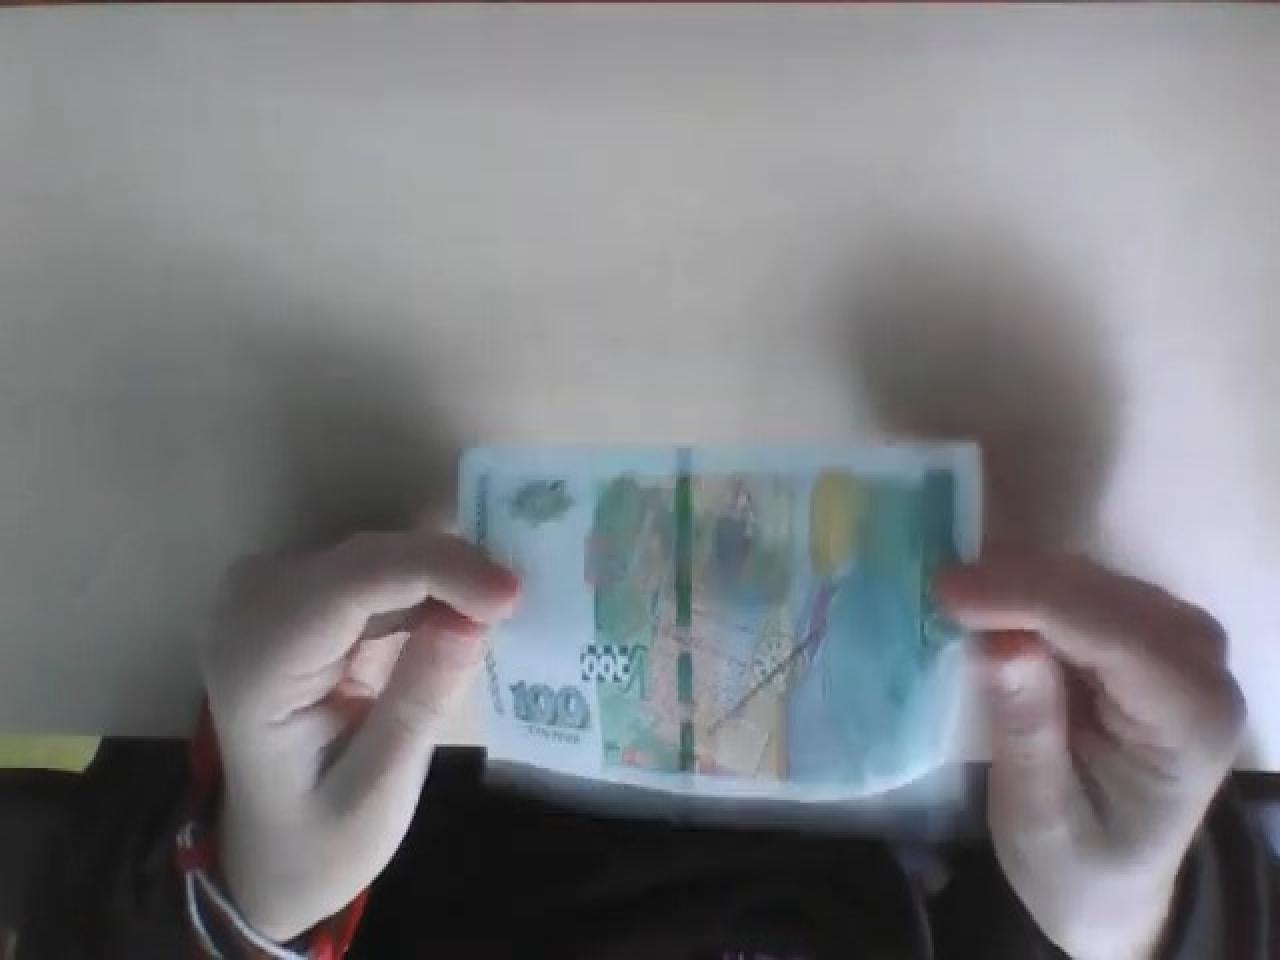100leva: (454, 435, 986, 809)
